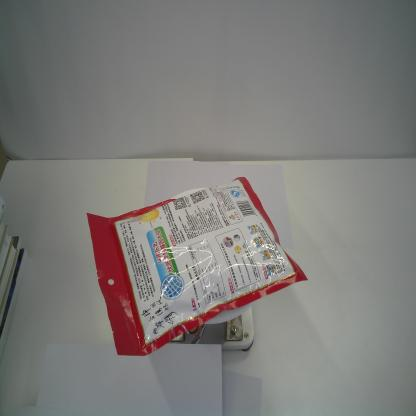Instant Drink: (84, 174, 311, 362)
